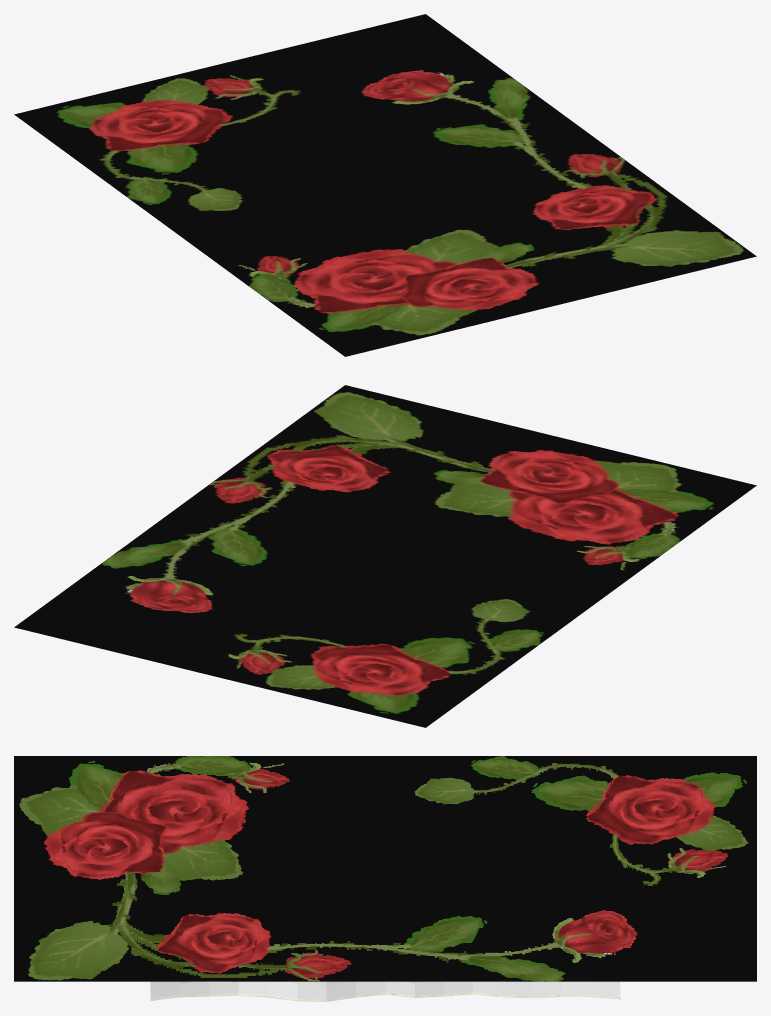
File: testrose2.gltf
3 renders of one model, top to bottom at view 1: azimuth 30°, elevation 25°; view 2: azimuth 150°, elevation 25°; view 3: azimuth 270°, elevation 25°, orthographic. The views are drawn at different scales.
Parts seen in each view (by area): view 1: Plane.002; view 2: Plane.002; view 3: Plane.002, Plane.001, Plane.
Part boxes in pixels (x1,y1,x2,y2): Plane.002: (14, 14, 756, 356); Plane.002: (14, 385, 756, 727); Plane.002: (14, 756, 756, 981); Plane.001: (150, 981, 620, 999); Plane: (150, 992, 620, 1001).
Bounding box in the file's own units: 2.69 × 0.279 × 3.75.
